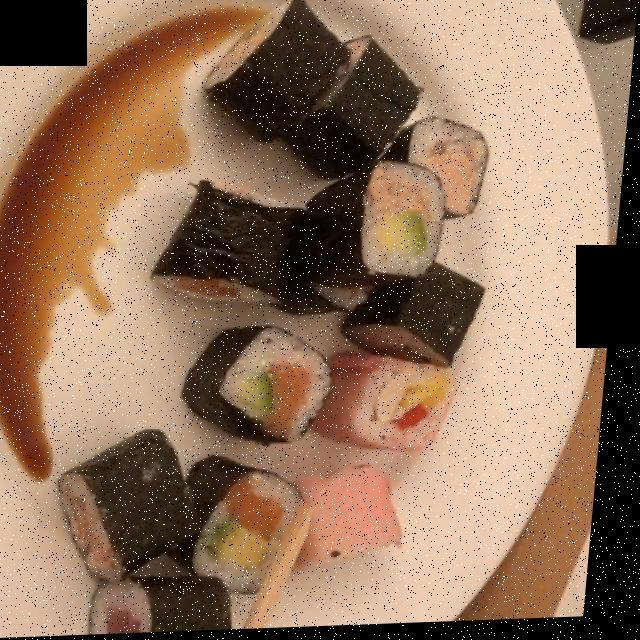sushi: (72, 0, 500, 631)
